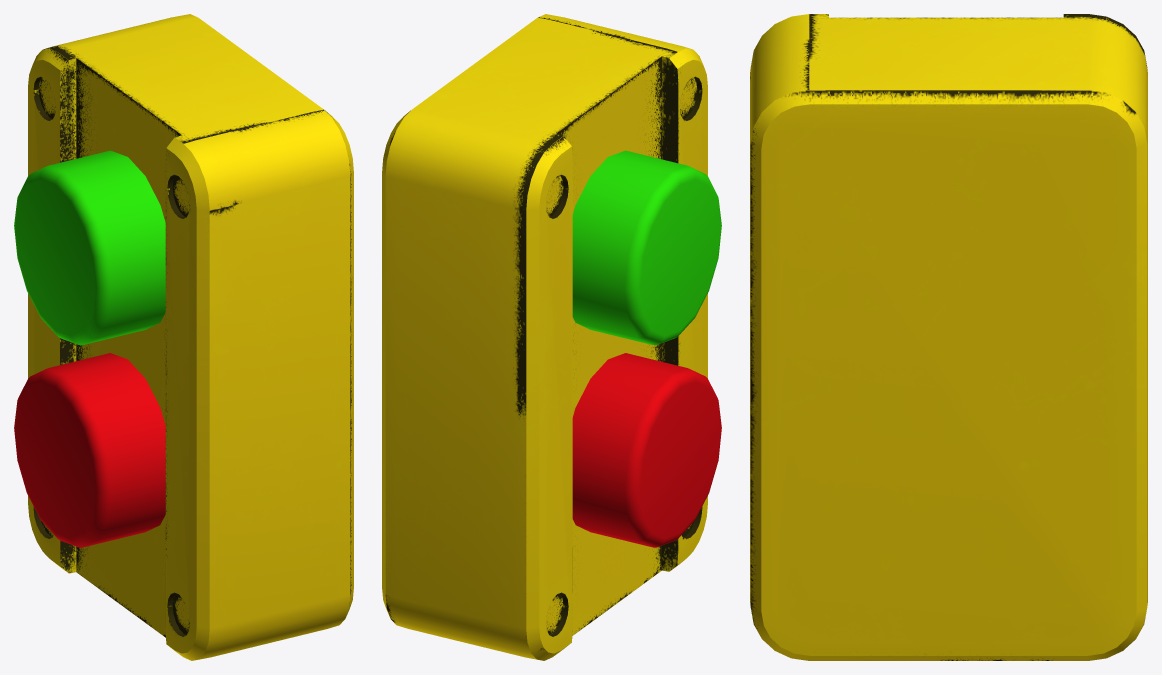
The model's file is 산업스위치.fbx.
The picture shows the model from 3 angles, left to right: view 1: azimuth 30°, elevation 25°; view 2: azimuth 150°, elevation 25°; view 3: azimuth 270°, elevation 25°; orthographic projection. The views are drawn at different scales.
Parts seen in each view (by area): view 1: 스위치본체, 열기, 소각; view 2: 스위치본체, 열기, 소각; view 3: 스위치본체.
Boxes of the visible parts, <box> form: 스위치본체: <box>28,14,353,660</box>; 열기: <box>14,150,165,345</box>; 소각: <box>14,353,165,547</box>; 스위치본체: <box>382,14,707,660</box>; 열기: <box>572,150,721,345</box>; 소각: <box>572,353,721,547</box>; 스위치본체: <box>750,14,1147,660</box>.
Bounding box in the file's own units: 4.7 × 10.79 × 6.8.
